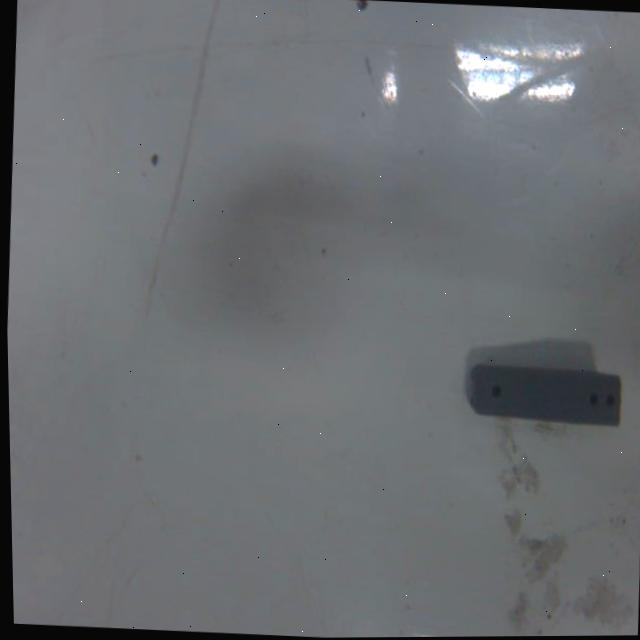grey: (465, 358, 622, 428)
head: (490, 378, 503, 399)
